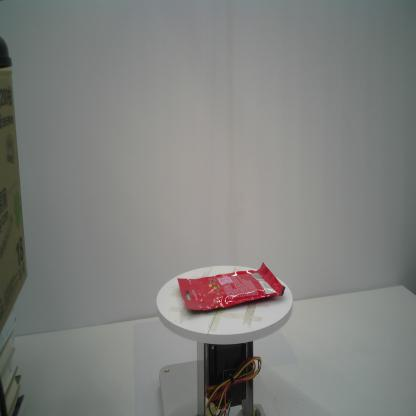Candy: (175, 262, 286, 312)
